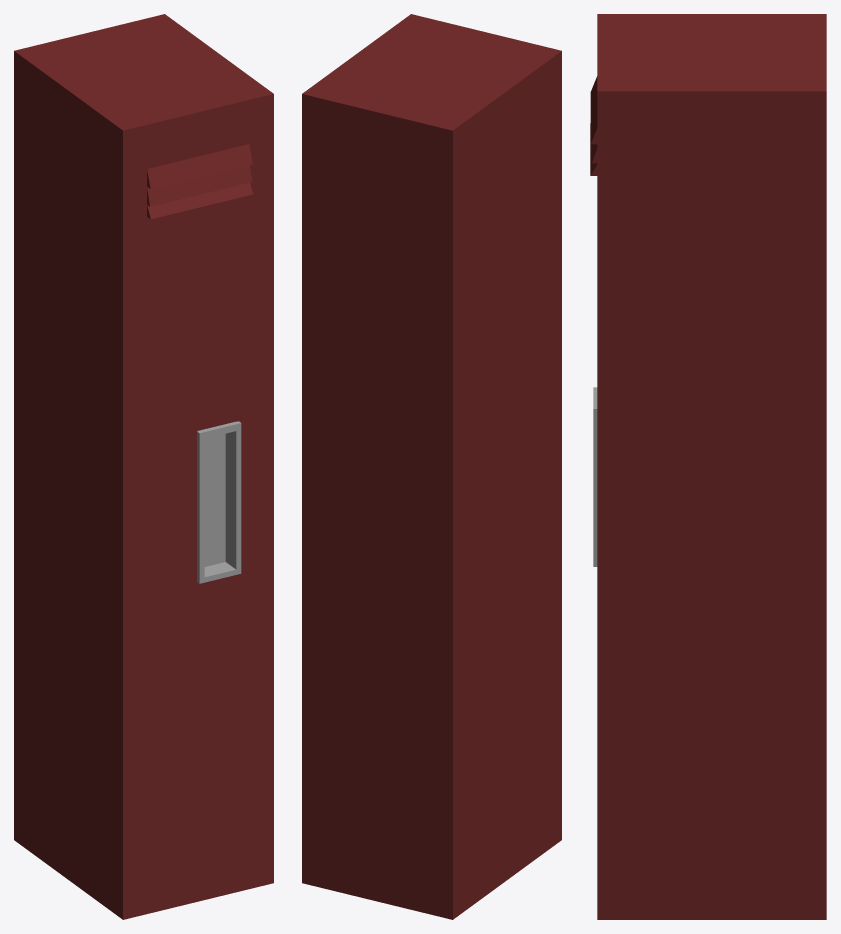
Rendered from Locker_alone.fbx.
3 renders of one model, left to right at view 1: azimuth 30°, elevation 25°; view 2: azimuth 150°, elevation 25°; view 3: azimuth 270°, elevation 25°, orthographic. The views are drawn at different scales.
Visible parts, largest first — view 1: Outside, Door, Handle; view 2: Outside; view 3: Outside, Handle, Door.
Boxes of the visible parts, <box> form: Outside: <box>14,14,273,919</box>; Door: <box>142,119,254,892</box>; Handle: <box>197,421,241,583</box>; Outside: <box>302,14,561,919</box>; Outside: <box>597,14,826,919</box>; Handle: <box>593,387,597,566</box>; Door: <box>590,76,597,175</box>.
Size of the model in its own units: 0.304 by 1.52 by 0.3924.
